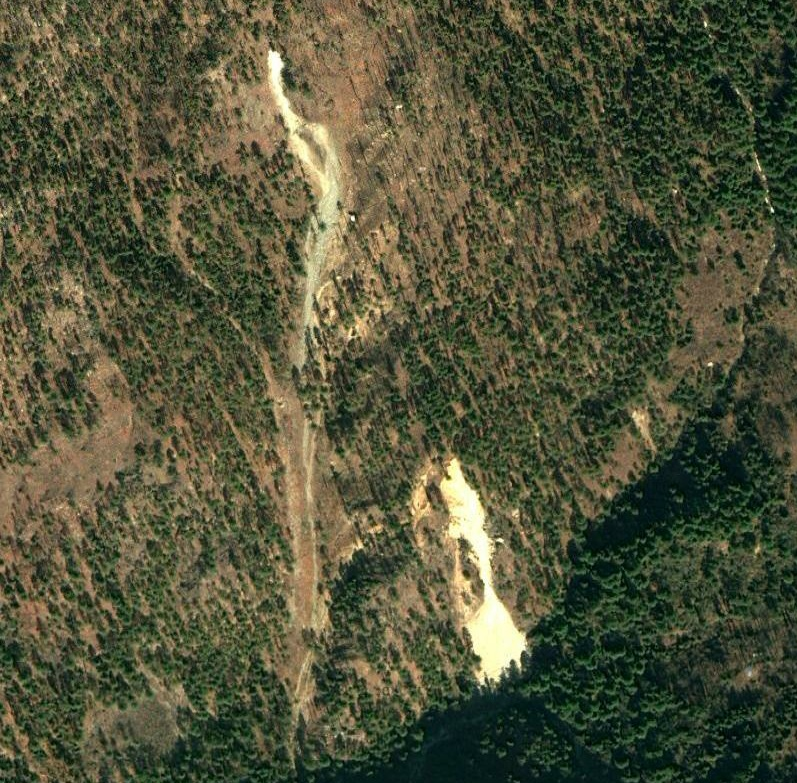slope: (266, 46, 349, 369), (417, 455, 528, 691)
